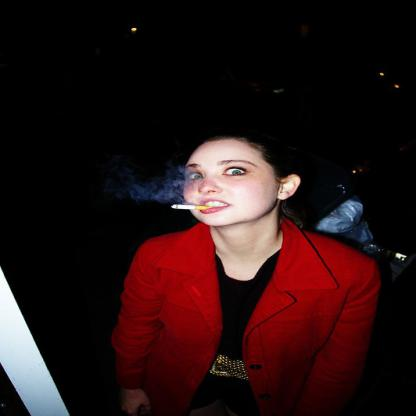smoking: (171, 204, 213, 210)
